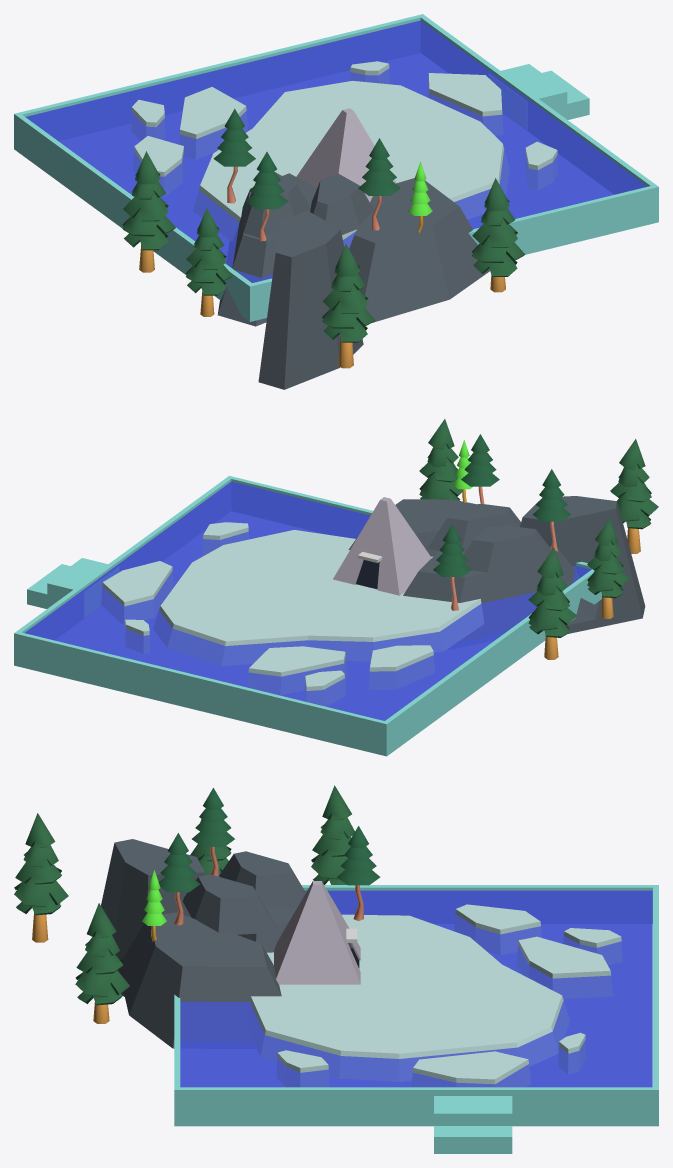
Rendered from paddock_penguins.fbx.
3 renders of one model, top to bottom at view 1: azimuth 30°, elevation 25°; view 2: azimuth 150°, elevation 25°; view 3: azimuth 270°, elevation 25°, orthographic. The views are drawn at different scales.
Visible parts, largest first — view 1: water, ice, paddock_penguins, Cube.003, Cube.015, house_penguins, Tree.009, Tree.033, Tree.032, Cube.005, paddock_penguins.001, Tree.035 (+6 smaller); view 2: ice, water, paddock_penguins, Cube.005, Cube.015, house_penguins, Cube.007, Tree.033, Tree.009, paddock_penguins.001, Tree.035, Tree.032 (+6 smaller); view 3: ice, water, paddock_penguins, Cube.003, house_penguins, Cube.015, paddock_penguins.001, Cube.006, Tree.009, Tree.032, Cube.007, Tree.033 (+6 smaller).
Part boxes in pixels (x1,y1,x2,y2): water: (25, 20, 647, 282); ice: (131, 61, 557, 247); paddock_penguins: (14, 14, 658, 321); Cube.003: (349, 178, 490, 322); Cube.015: (258, 210, 363, 389); house_penguins: (296, 108, 396, 202); Tree.009: (322, 244, 375, 368); Tree.033: (122, 151, 175, 272); Tree.032: (471, 178, 525, 292); Cube.005: (217, 173, 316, 326); paddock_penguins.001: (489, 64, 589, 129); Tree.035: (186, 208, 232, 316); ice: (101, 522, 483, 705); water: (24, 481, 591, 720); paddock_penguins: (14, 475, 601, 756); Cube.005: (403, 546, 598, 642); Cube.015: (520, 496, 645, 633); house_penguins: (333, 497, 431, 595); Cube.007: (463, 525, 551, 572); Tree.033: (528, 547, 576, 659); Tree.009: (610, 439, 658, 553); paddock_penguins.001: (27, 558, 118, 617); Tree.035: (587, 518, 629, 618); Tree.032: (419, 419, 462, 500); ice: (247, 904, 621, 1086); water: (180, 890, 652, 1087); paddock_penguins: (174, 885, 658, 1126); Cube.003: (118, 912, 281, 1048); house_penguins: (274, 881, 360, 984); Cube.015: (101, 839, 205, 996); paddock_penguins.001: (434, 1096, 512, 1153); Cube.006: (183, 874, 278, 934); Tree.009: (14, 813, 68, 942); Tree.032: (75, 903, 129, 1023); Cube.007: (219, 851, 305, 908); Tree.033: (311, 785, 354, 884).
Size of the model in its own units: 3166 by 1106 by 3369.
